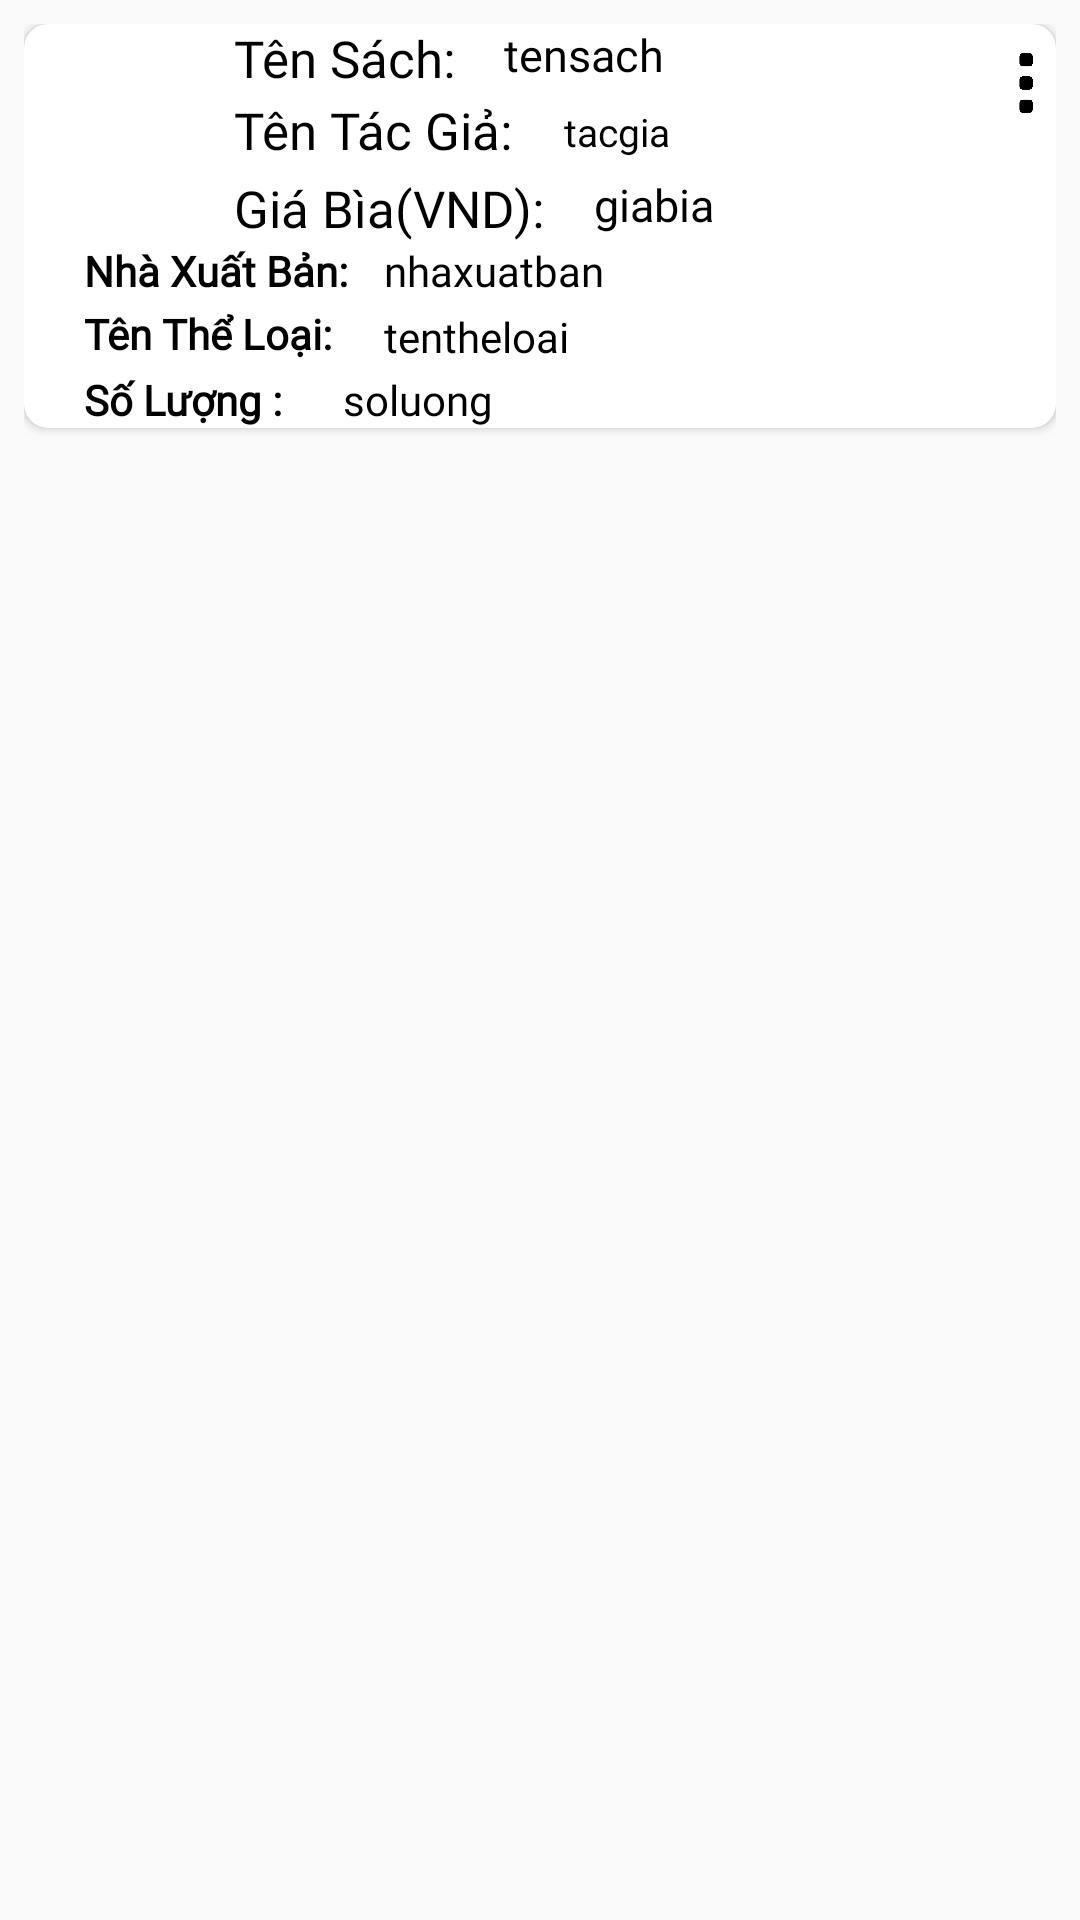

Screen size 1080x1920. Icon name, then its box in pixels as (x1, y1, x2, y2):
menu: (1019, 53, 1033, 113)
